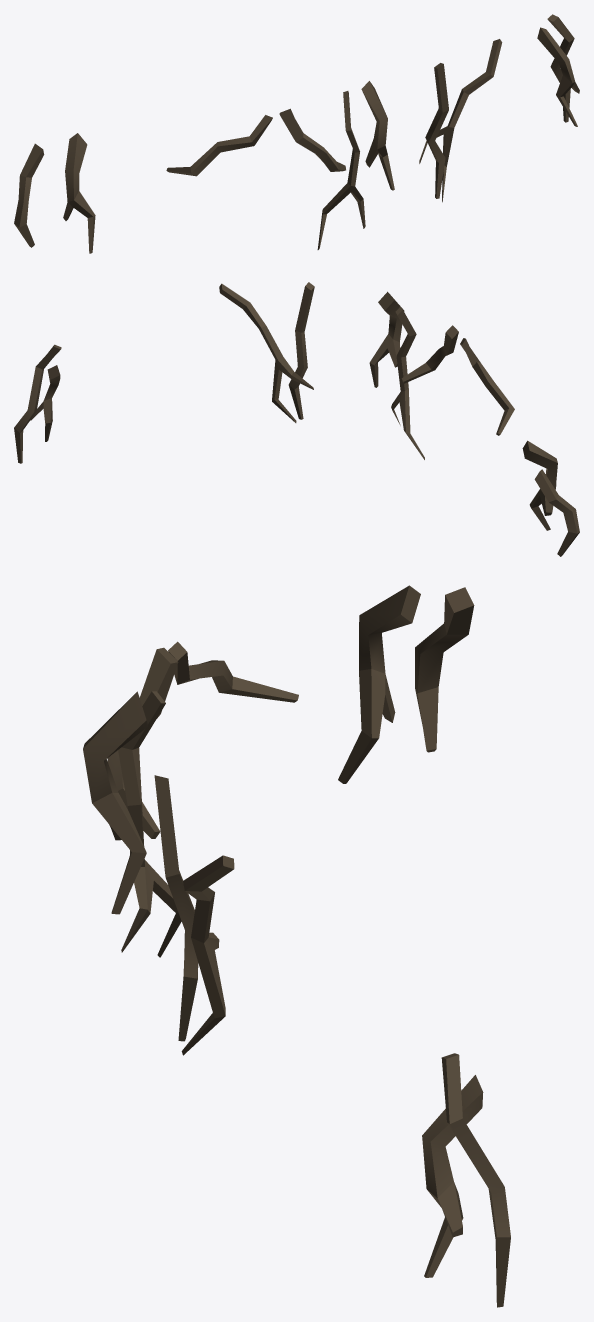
The model's file is synty-terrain-grassedge-roots-01.gltf.
The picture shows the model from 3 angles, top to bottom: view 1: azimuth 30°, elevation 25°; view 2: azimuth 150°, elevation 25°; view 3: azimuth 270°, elevation 25°; orthographic projection. The views are drawn at different scales.
Parts seen in each view (by area): view 1: SM_Terrain_GrassEdge_Roots_01; view 2: SM_Terrain_GrassEdge_Roots_01; view 3: SM_Terrain_GrassEdge_Roots_01.
Boxes of the visible parts, <box> form: SM_Terrain_GrassEdge_Roots_01: <box>14,14,579,253</box>; SM_Terrain_GrassEdge_Roots_01: <box>14,282,579,556</box>; SM_Terrain_GrassEdge_Roots_01: <box>83,585,510,1307</box>.
Size of the model in its own units: 6.08 by 1.85 by 2.07.
1 material, 1 textured.
